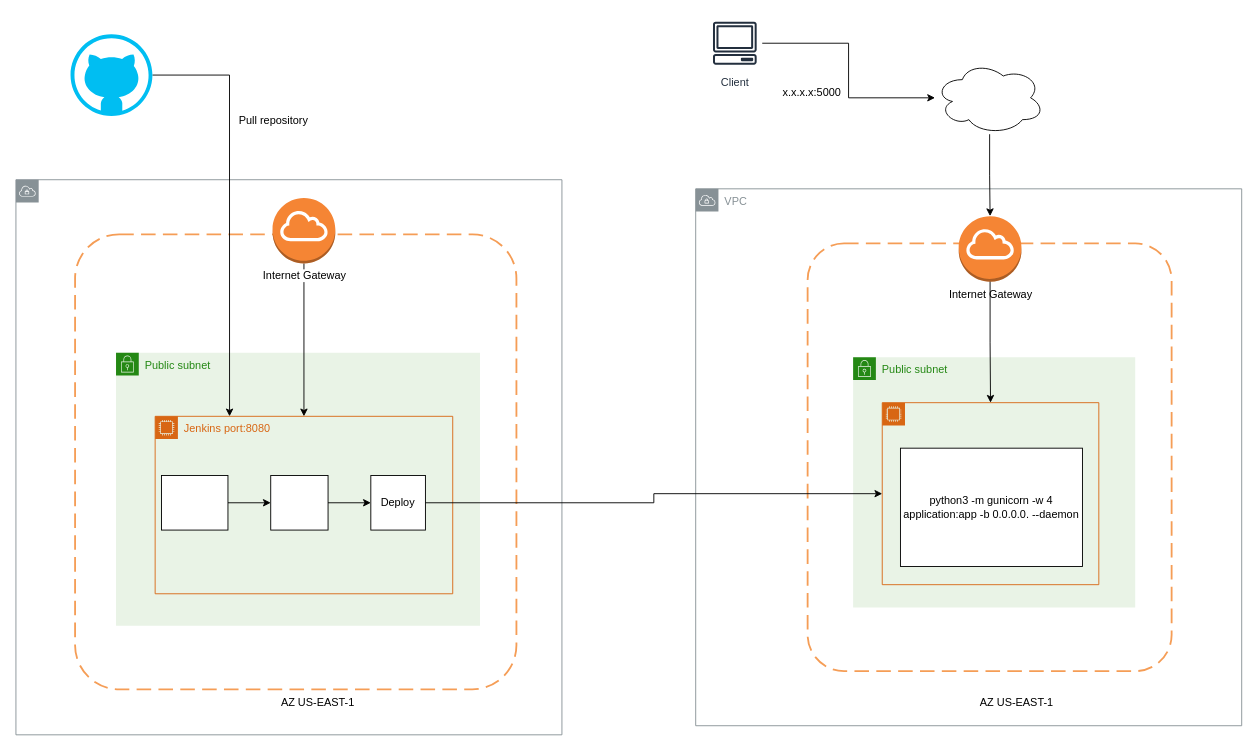
Some shapes in this 1258 by 751 pixel diagram are drawn without their labels. The box of each missing label's shape, as (x1, y1, x2, y2) in pixels:
awsDeploy port:5000: (881, 402, 1099, 585)
Build: (161, 475, 228, 530)
Default VPC: (15, 179, 562, 735)
Github: (70, 34, 152, 116)
Test: (270, 475, 328, 530)
